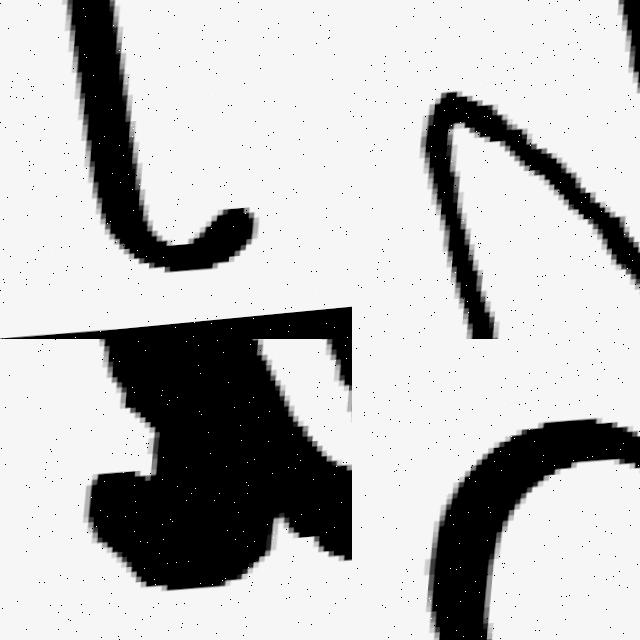A: (0, 339, 352, 614)
B: (425, 427, 640, 640)
H: (423, 95, 640, 339)
J: (0, 0, 314, 293)
